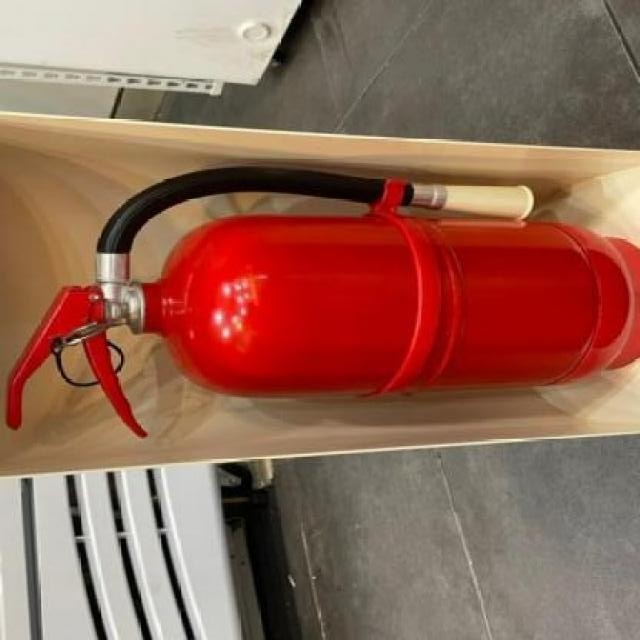fire extinguisher: (4, 166, 640, 438)
